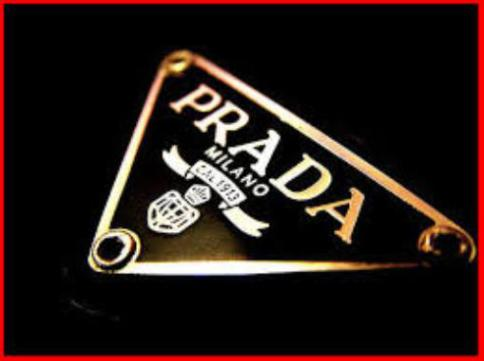PRADA: (170, 78, 378, 245)
